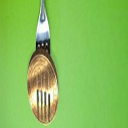Fork: (20, 3, 64, 126)
